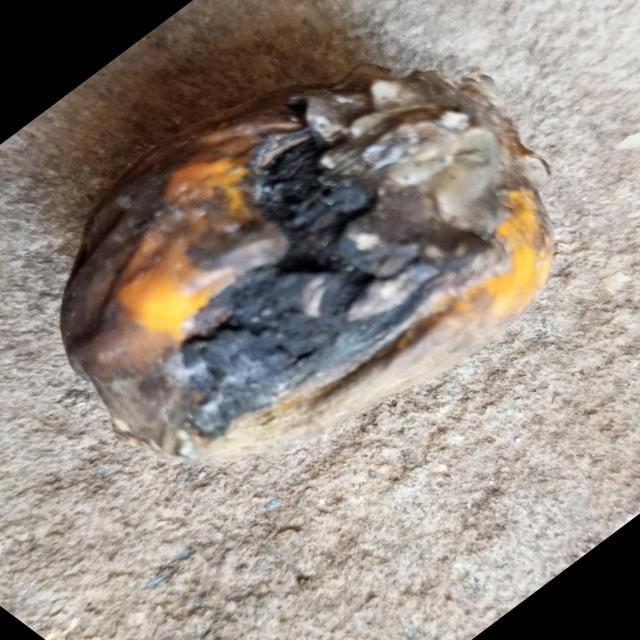damaged: (59, 57, 557, 483)
